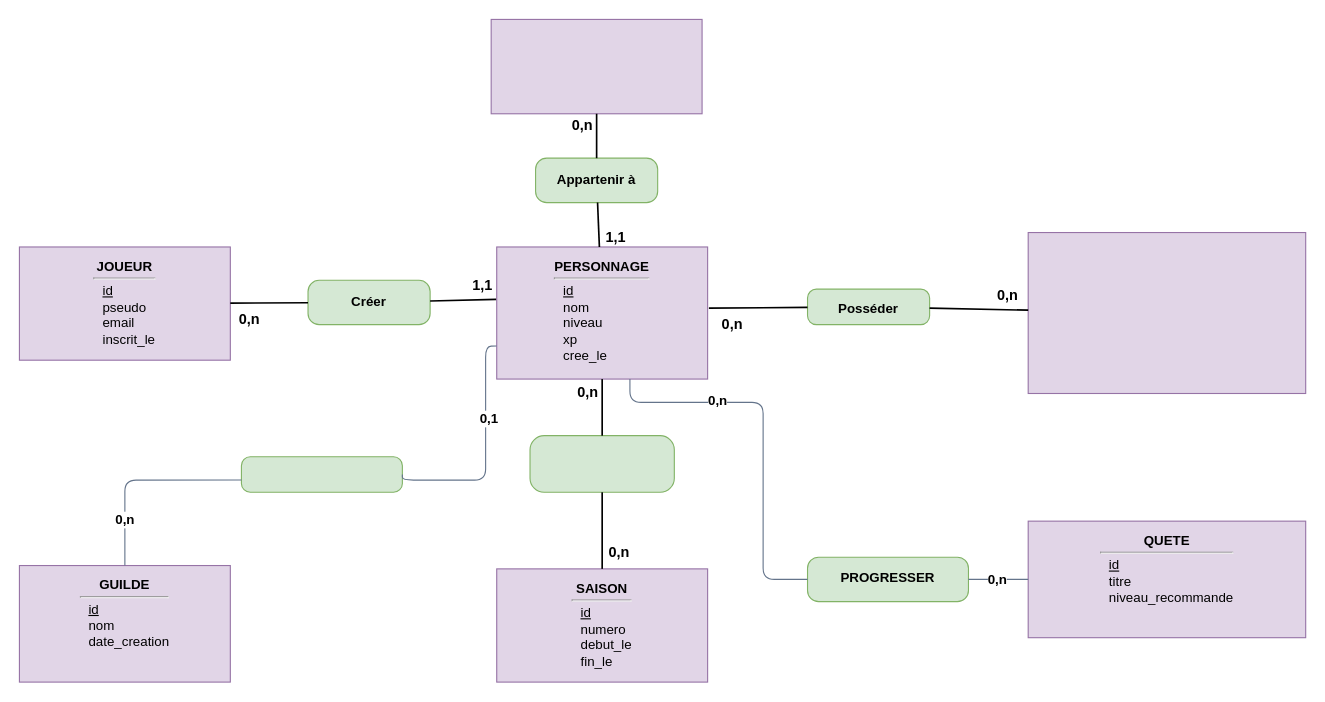
Image size: 1325x702. Some labels were removed from this diagram. Here are the shapes that lost their labels. From the top down, the centre of each, then its label:
At (596,66): "CLASSE id nom description".
At (1166,312): "OBJET id nom type rarete niveau_requis caracteristiques".
At (321,474): "Être membre de".
At (601,463): "Se classer".
